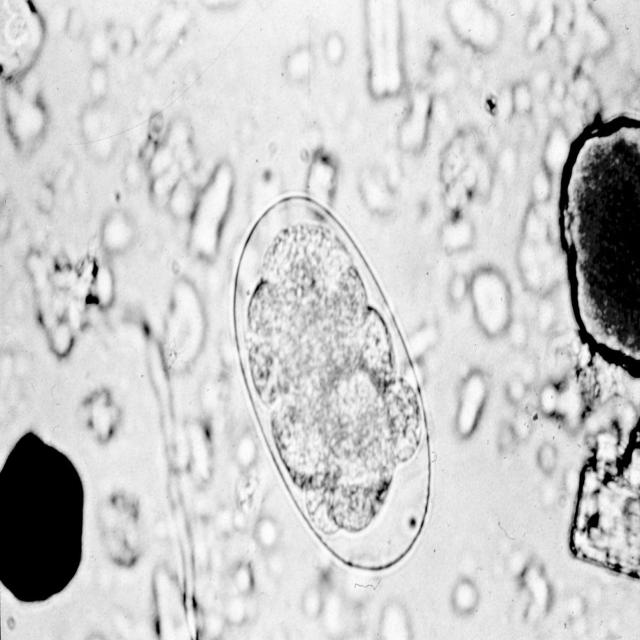Ancylostoma Spp: (224, 187, 438, 575)
